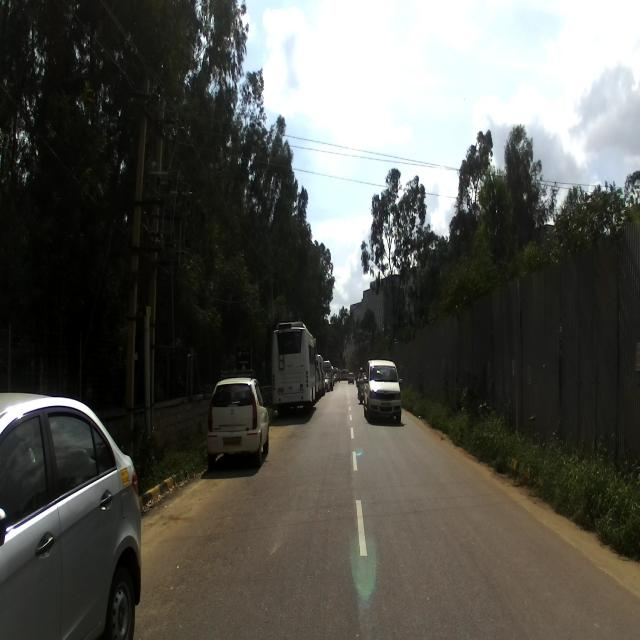Car_Honda: (0, 389, 143, 639)
Car_Mahindra: (362, 358, 402, 426)
Car_TATA: (207, 374, 270, 473)
